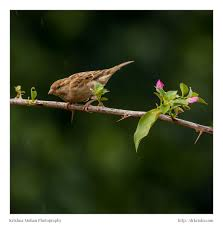hsparrow: (42, 57, 139, 118)
